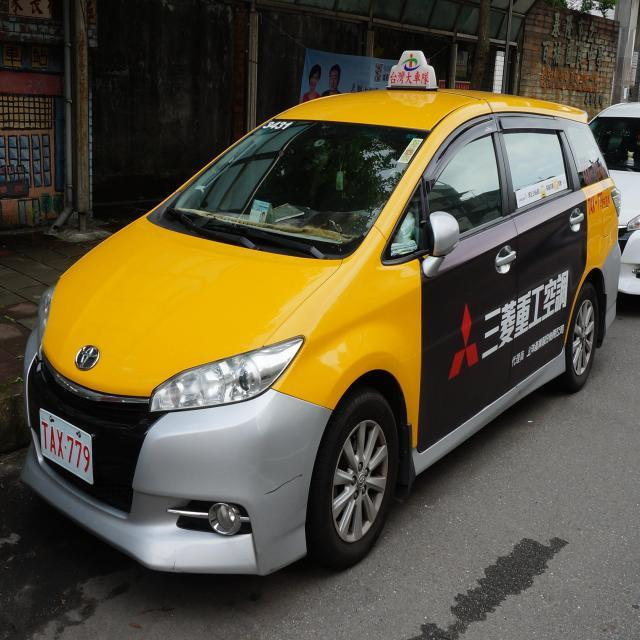taxi: (9, 49, 631, 587)
